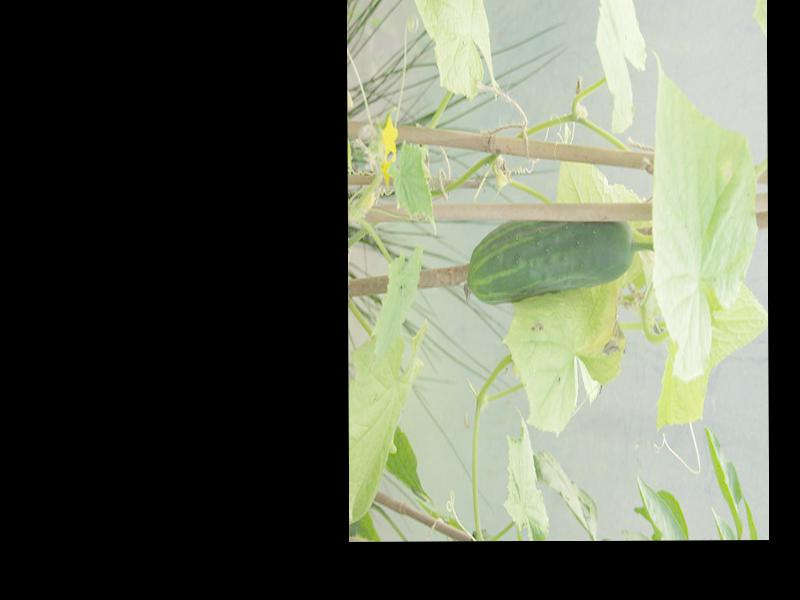Cucumber: (464, 219, 634, 306)
